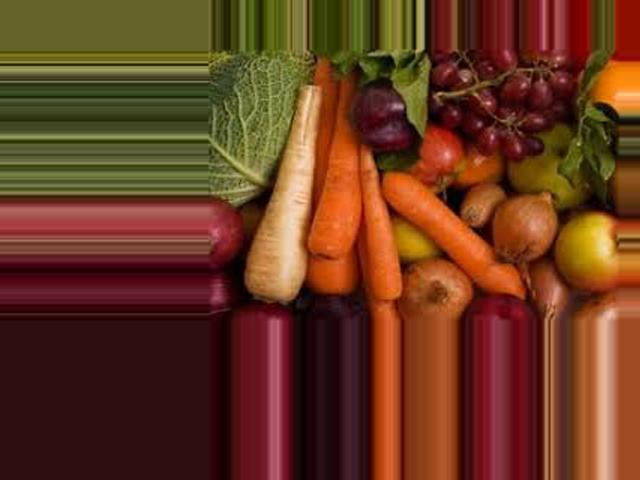carrot: (321, 75, 354, 265)
